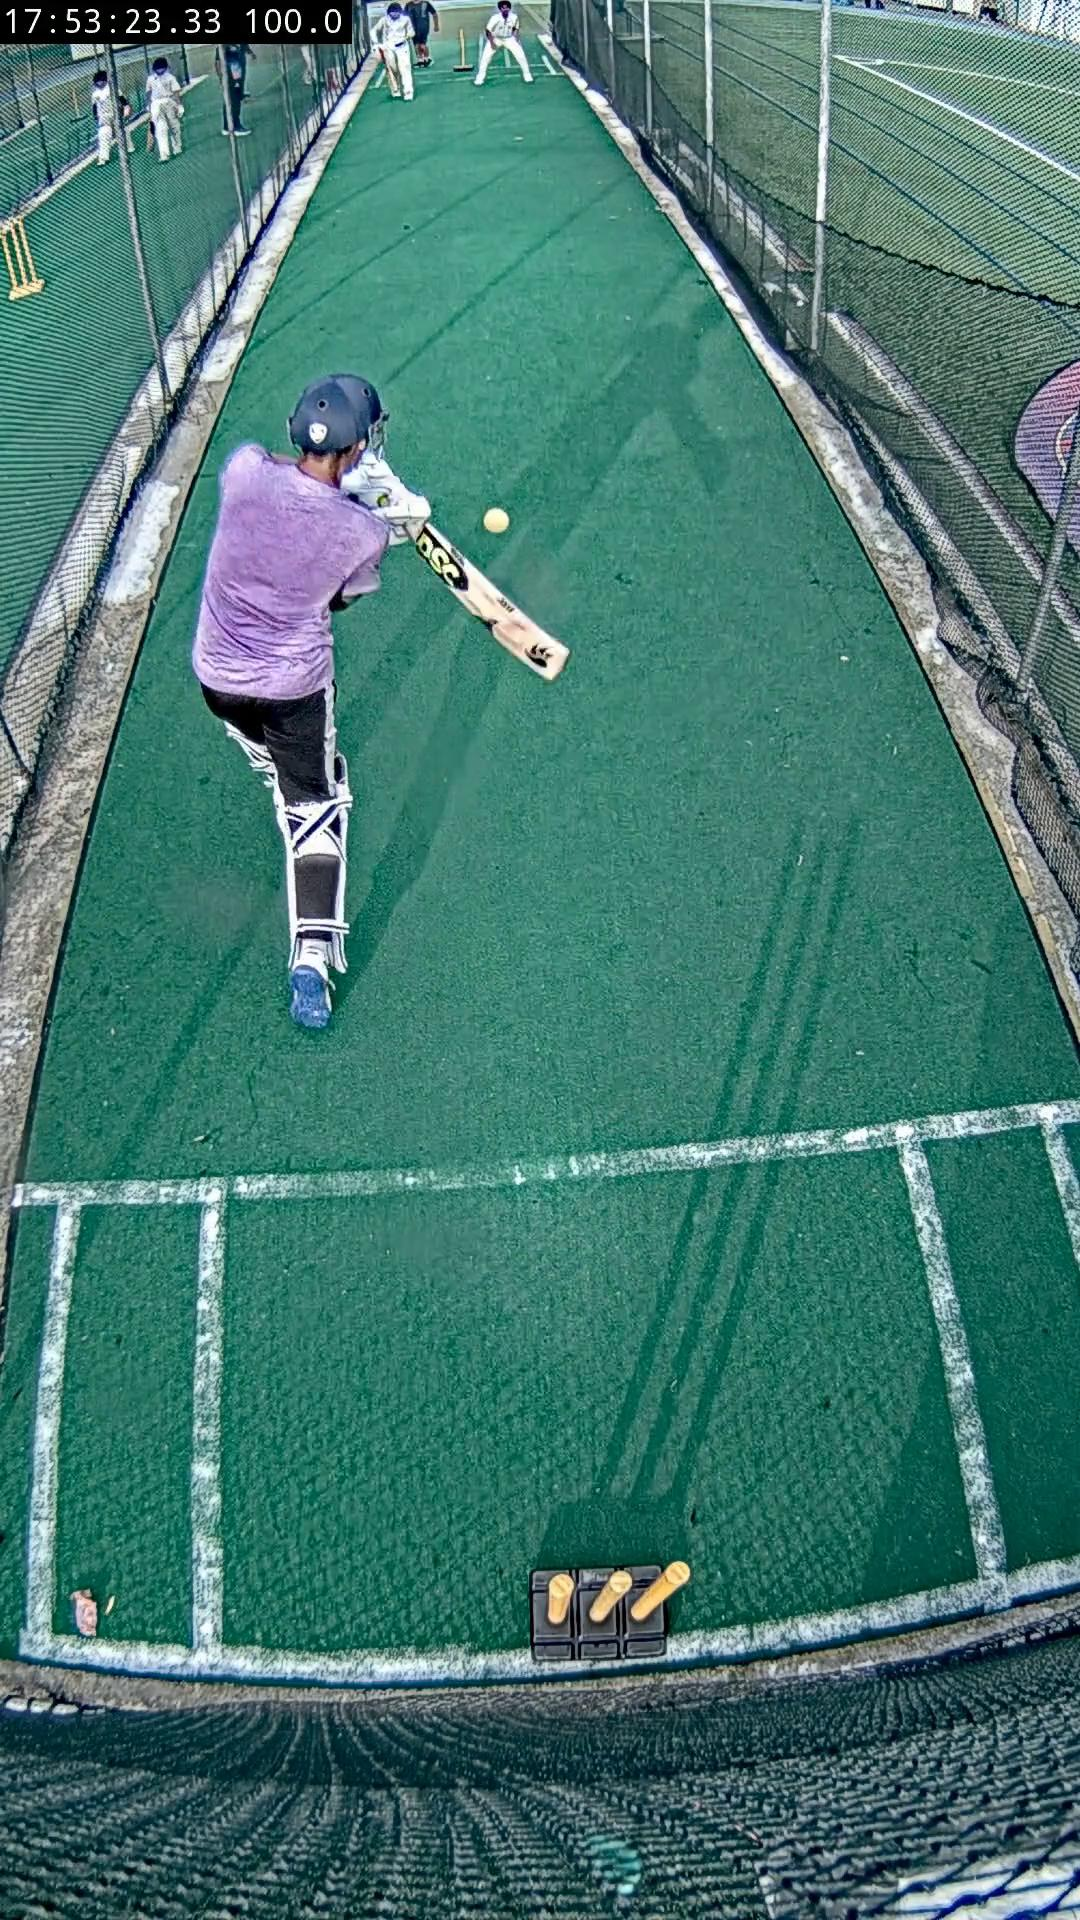ball: (484, 506, 510, 533)
bat: (417, 525, 570, 679)
gloves: (342, 450, 431, 543)
helmet: (289, 375, 382, 454)
stumps: (529, 1560, 690, 1665)
